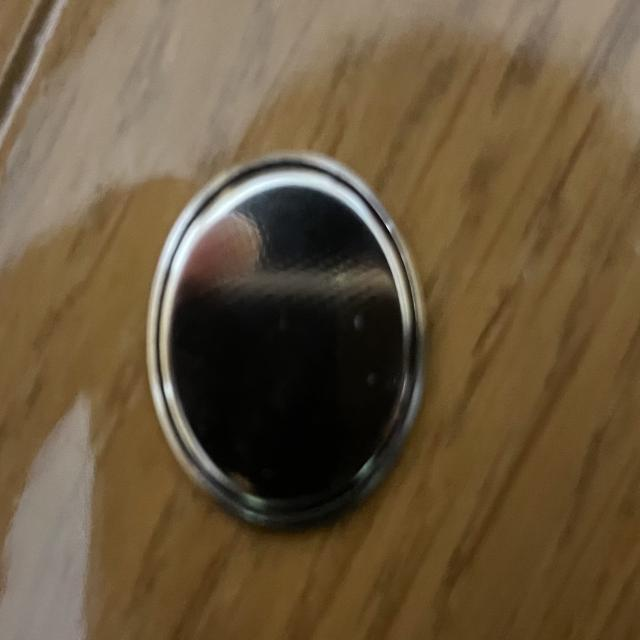COIN: (143, 150, 424, 539)
